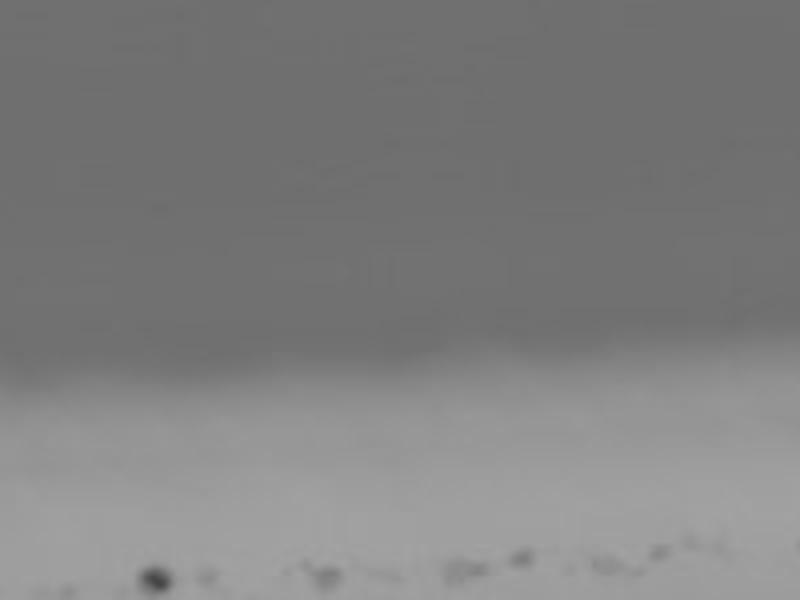defect: (445, 554, 487, 585), (309, 564, 344, 597), (588, 549, 623, 578), (139, 568, 173, 592), (195, 565, 222, 590), (705, 541, 736, 562), (509, 547, 534, 571), (648, 541, 674, 562), (675, 527, 699, 548), (56, 582, 80, 599), (24, 583, 48, 600), (627, 563, 648, 580), (292, 556, 310, 573), (281, 565, 293, 579)
